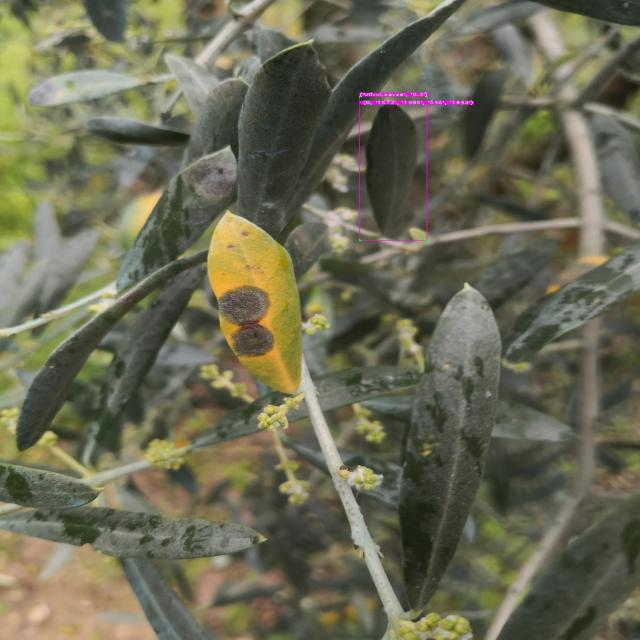Peacock Eye: (208, 212, 302, 394)
